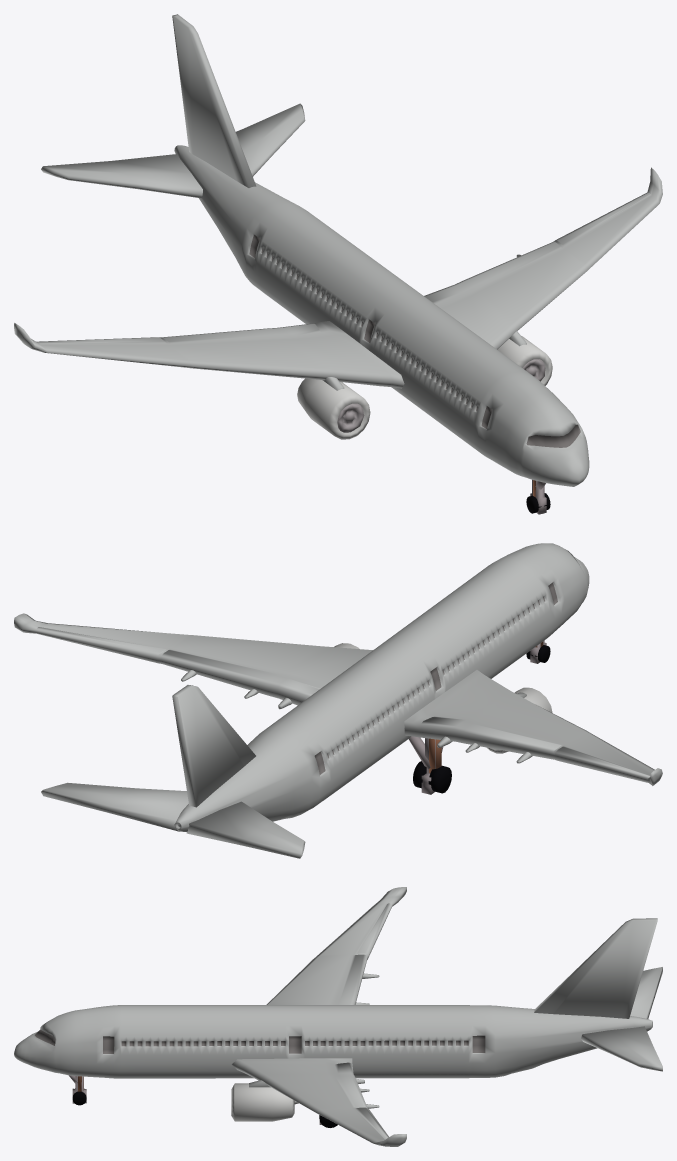
File: AirplaneForFree.glb
3 views of the same model, one above another, from view 1: azimuth 30°, elevation 25°; view 2: azimuth 150°, elevation 25°; view 3: azimuth 270°, elevation 25° (orthographic). The views are drawn at different scales.
Parts seen in each view (by area): view 1: A_AirPlane1; view 2: A_AirPlane1; view 3: A_AirPlane1.
Part boxes in pixels (x1,y1,x2,y2): A_AirPlane1: (14,14,662,514); A_AirPlane1: (14,543,662,858); A_AirPlane1: (14,887,662,1146).
Bounding box in the file's own units: 35.86 × 12.43 × 39.74.
2 materials, 2 textured.
